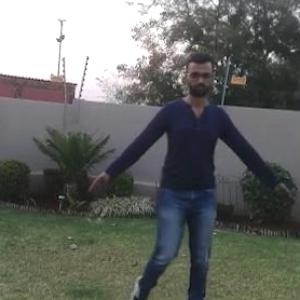land: (97, 61, 280, 299)
